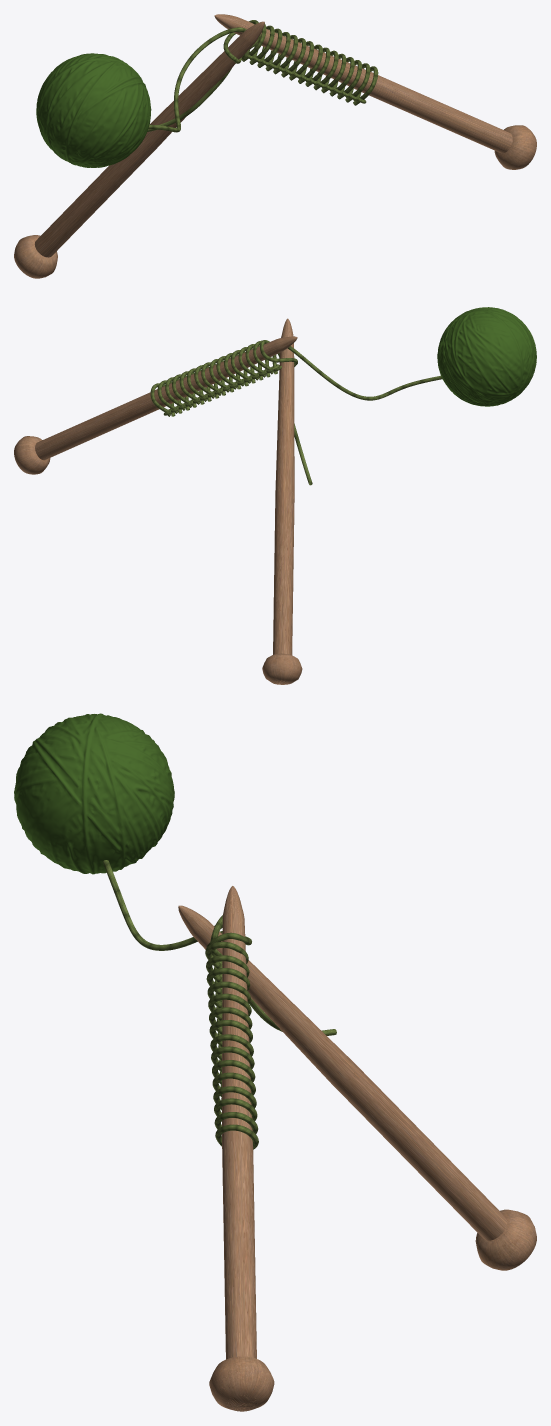
File: knit2.glb
The picture shows the model from 3 angles, top to bottom: view 1: azimuth 30°, elevation 25°; view 2: azimuth 150°, elevation 25°; view 3: azimuth 270°, elevation 25°; orthographic projection. The views are drawn at different scales.
Visible parts, largest first — view 1: SM_Globe6HD_retopo_blinn2_0_4, niddle.001, niddle, topring.016, topring.015; view 2: SM_Globe6HD_retopo_blinn2_0_4, niddle.001, niddle, topring.016, topring.015; view 3: SM_Globe6HD_retopo_blinn2_0_4, niddle.001, niddle, topring.016.
Boxes of the visible parts, left/top/right/bottom form: SM_Globe6HD_retopo_blinn2_0_4: left=36, top=53, right=151, bottom=167; niddle.001: left=14, top=21, right=264, bottom=278; niddle: left=214, top=14, right=536, bottom=169; topring.016: left=148, top=27, right=250, bottom=132; topring.015: left=147, top=20, right=260, bottom=131; SM_Globe6HD_retopo_blinn2_0_4: left=437, top=307, right=536, bottom=406; niddle.001: left=262, top=318, right=302, bottom=684; niddle: left=14, top=336, right=297, bottom=474; topring.016: left=278, top=346, right=442, bottom=400; topring.015: left=260, top=340, right=312, bottom=485; SM_Globe6HD_retopo_blinn2_0_4: left=14, top=713, right=174, bottom=874; niddle.001: left=178, top=905, right=536, bottom=1270; niddle: left=209, top=886, right=274, bottom=1411; topring.016: left=103, top=860, right=222, bottom=956.
Size of the model in its own units: 5.6 by 3.43 by 3.36.
Materials: 3 (2 with a texture image).
